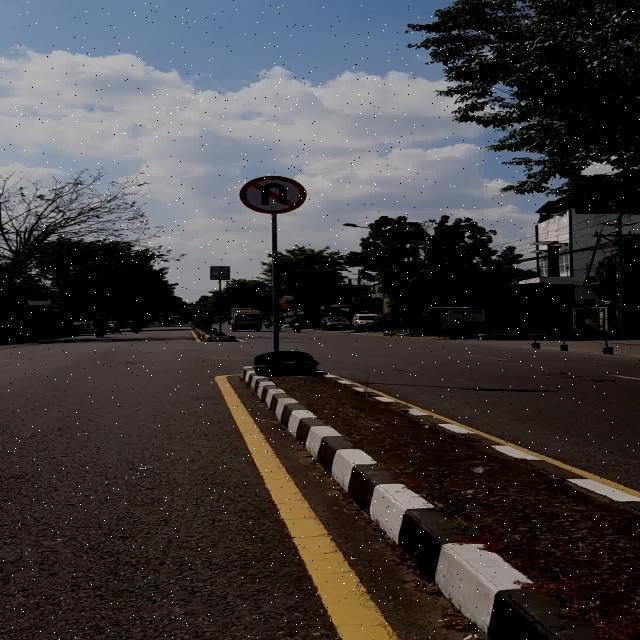Dilarang Putar Balik: (239, 176, 307, 213)
